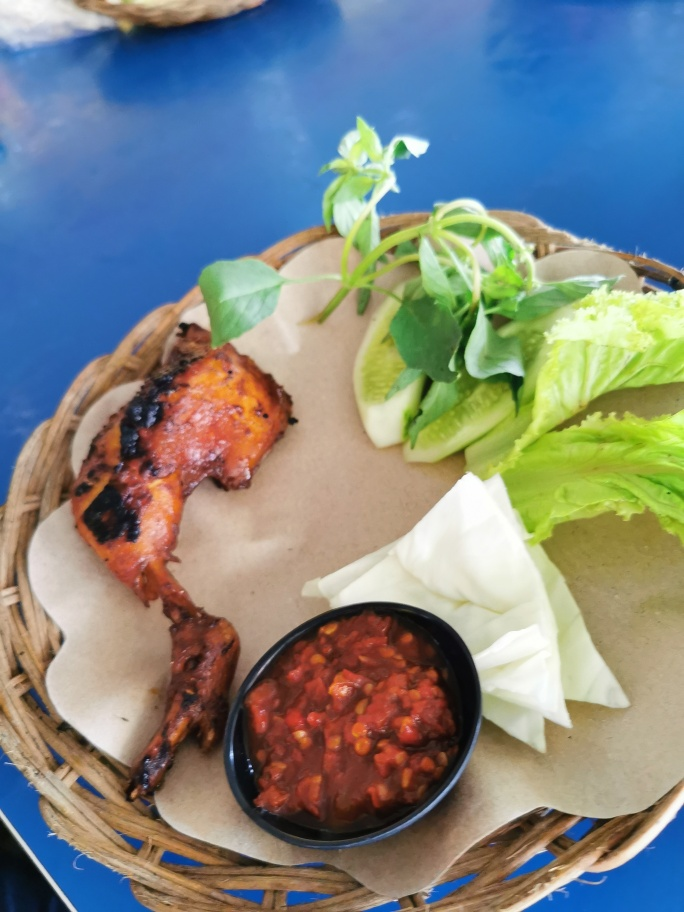ayam bakar: (51, 307, 306, 814)
